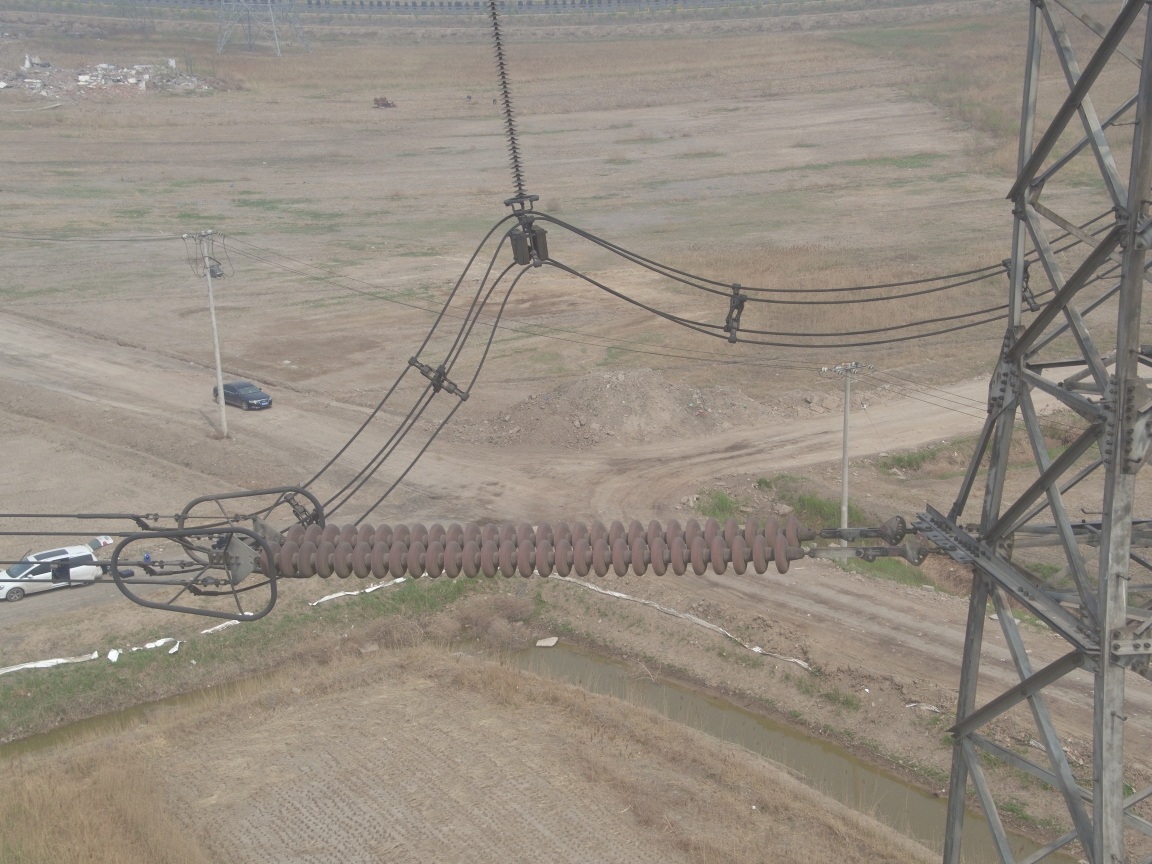insulator: (251, 516, 865, 581)
